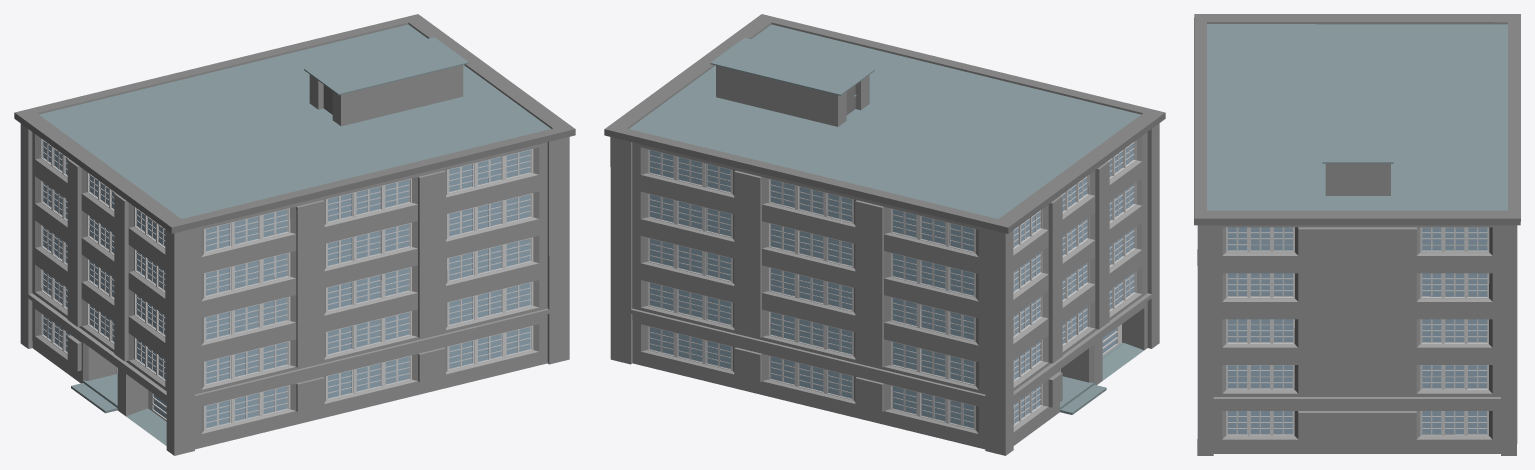
Rendered from Building_A1_prefab.fbx.
3 renders of one model, left to right at view 1: azimuth 30°, elevation 25°; view 2: azimuth 150°, elevation 25°; view 3: azimuth 270°, elevation 25°, orthographic. The views are drawn at different scales.
Visible parts, largest first — view 1: Building_A1; view 2: Building_A1; view 3: Building_A1.
Part boxes in pixels (left/top/right/bottom): Building_A1: left=14, top=14, right=575, bottom=455; Building_A1: left=604, top=14, right=1165, bottom=455; Building_A1: left=1194, top=14, right=1520, bottom=455.
Bounding box in the file's own units: 9001 × 5553 × 6016.
